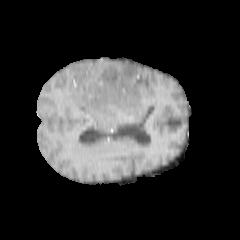glioma: (66, 60, 148, 119)
